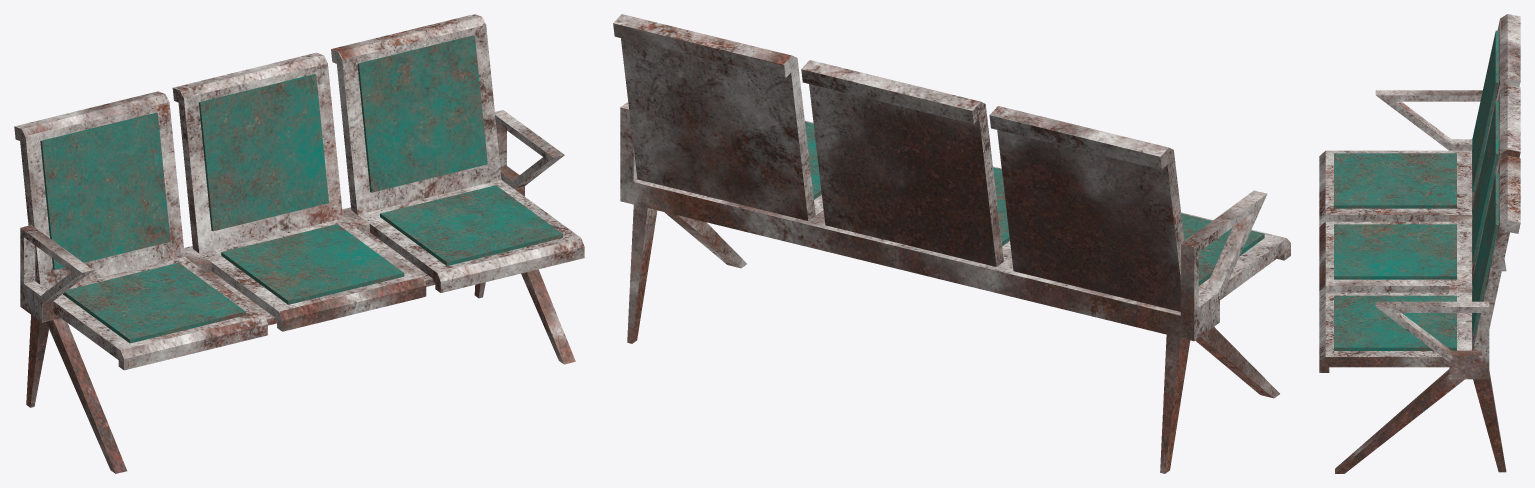
File: uploads_files_4538454_Hospital_Chair.fbx
3 renders of one model, left to right at view 1: azimuth 30°, elevation 25°; view 2: azimuth 150°, elevation 25°; view 3: azimuth 270°, elevation 25°, orthographic. The views are drawn at different scales.
Parts seen in each view (by area): view 1: Plane.014; view 2: Plane.014; view 3: Plane.014.
Boxes of the visible parts, bbox=[...] form: Plane.014: bbox=[14, 14, 584, 473]; Plane.014: bbox=[613, 14, 1290, 473]; Plane.014: bbox=[1319, 14, 1520, 473].
Size of the model in its own units: 1035 by 566 by 407.
